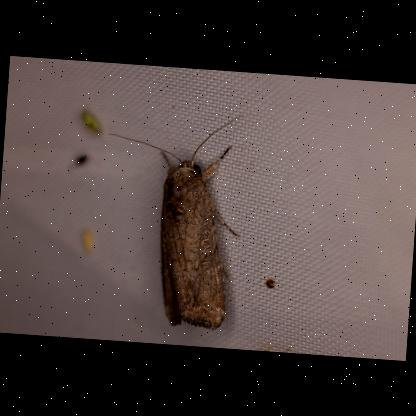Fall Armyworm Moth: (92, 102, 252, 335)
